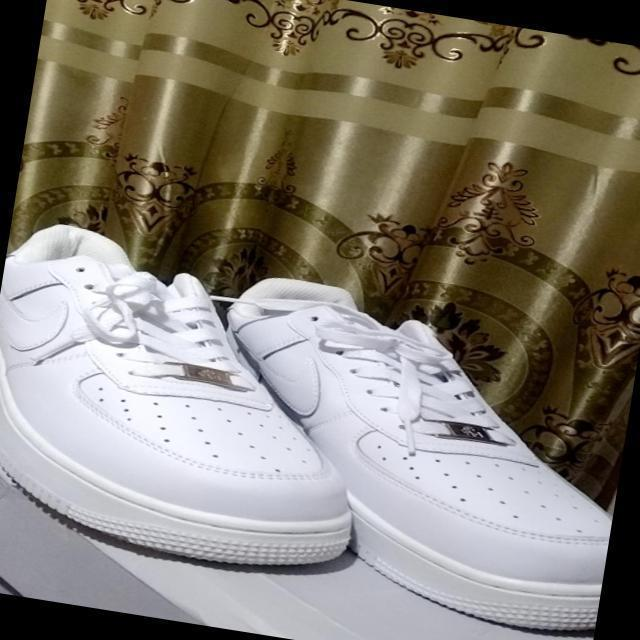nike fake air force: (95, 250, 640, 640), (0, 212, 399, 598)
